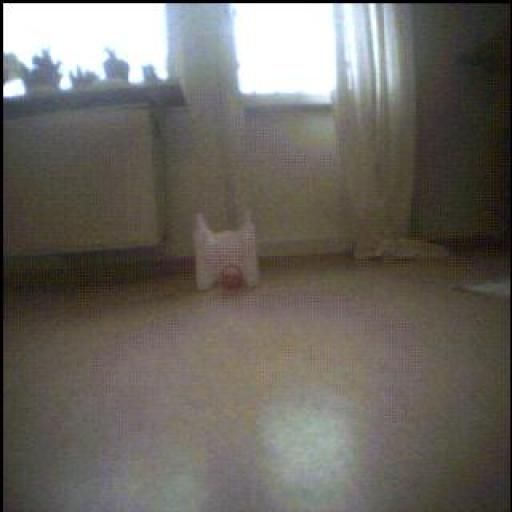Basket: (218, 262, 246, 294)
